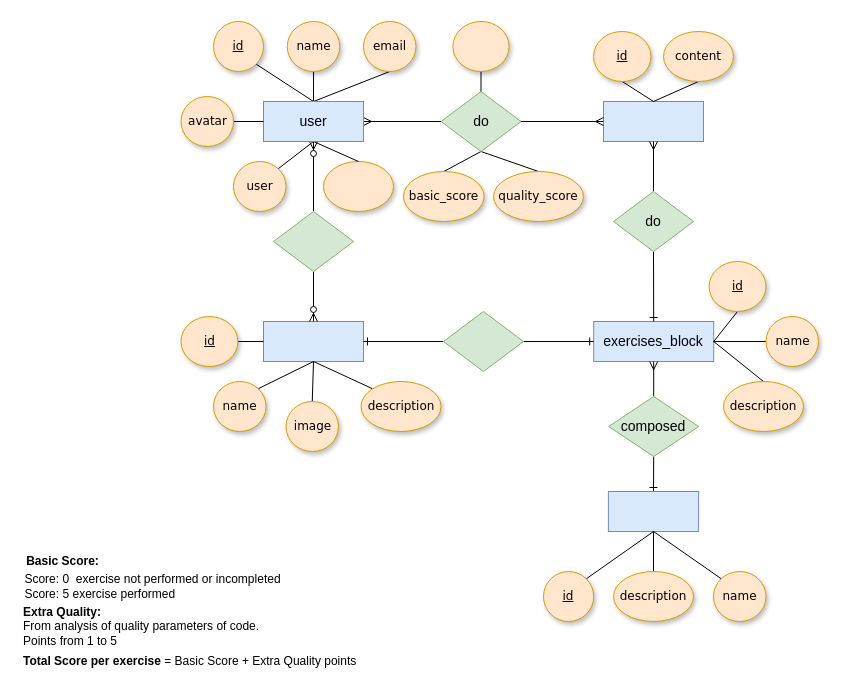
Image size: 842x689. Some labels were removed from this diagram. Each missing label, with the centre of its shape:
"badge" goes at pixel 313 341.
"course" goes at pixel 653 511.
"date" goes at pixel 481 47.
"exercise" goes at pixel 653 121.
"get" goes at pixel 313 241.
"overcome" goes at pixel 483 341.
"password" goes at pixel 359 187.
